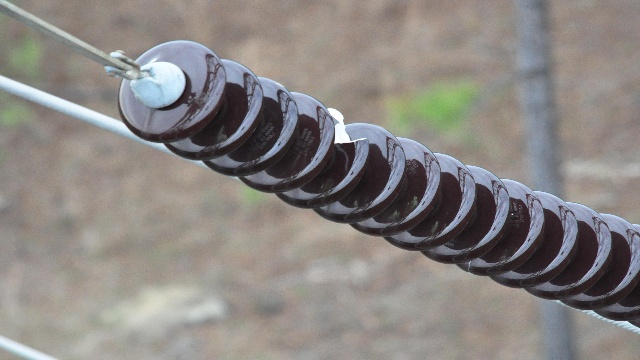broken_local: (326, 105, 368, 145)
insulator_unspecified: (117, 39, 639, 326)
